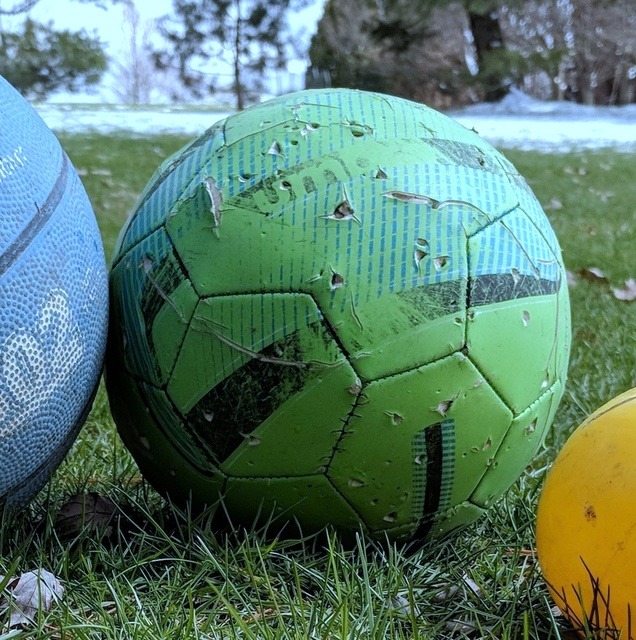ball: (102, 87, 573, 554)
